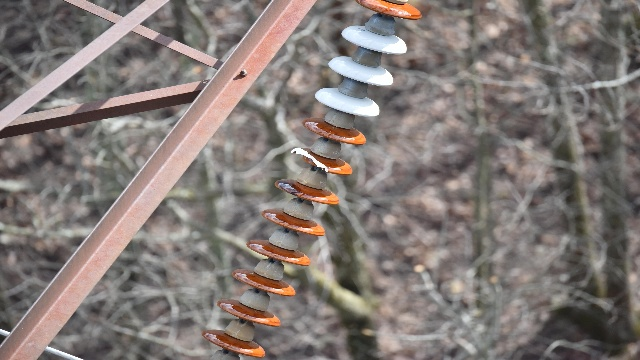broken_local: (290, 145, 331, 174)
insulator_unspecified: (201, 1, 424, 354)
